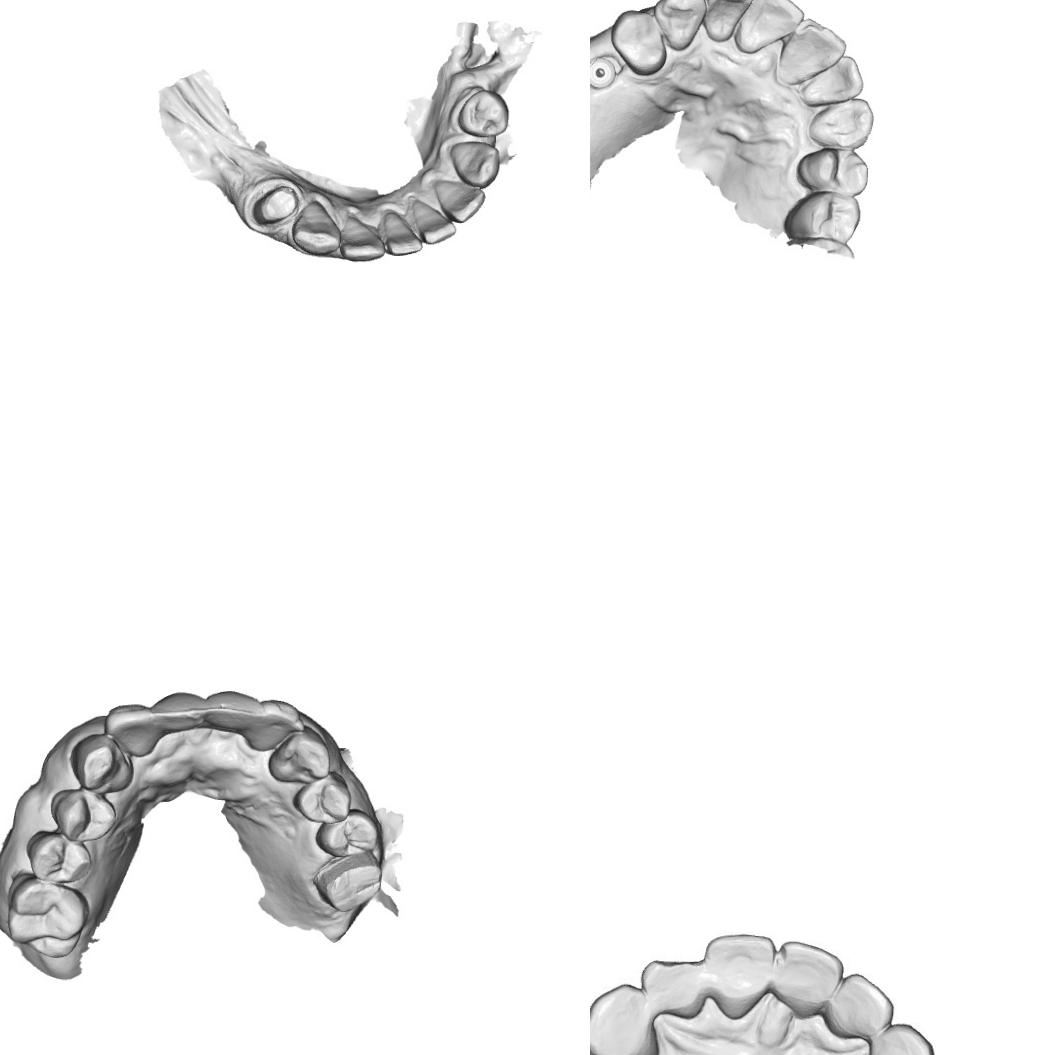canine: (590, 982, 665, 1055), (69, 730, 136, 796), (806, 88, 877, 150), (266, 728, 331, 785), (290, 198, 343, 258), (649, 0, 708, 51), (448, 139, 501, 188), (859, 1023, 939, 1055)
crown: (310, 850, 384, 914), (244, 180, 302, 234)
implant: (590, 52, 617, 91)
incisor: (706, 929, 782, 1011), (774, 937, 843, 1018), (636, 952, 708, 1026), (829, 969, 894, 1039), (781, 15, 847, 80), (800, 52, 866, 108), (738, 0, 803, 54), (104, 701, 158, 758), (250, 696, 300, 754), (407, 192, 458, 246), (430, 176, 486, 224), (337, 212, 387, 263), (153, 690, 207, 737), (206, 688, 259, 734), (700, 0, 754, 44), (380, 210, 424, 256)
molar: (4, 872, 91, 958)
premolar: (780, 189, 862, 244), (791, 144, 874, 198), (48, 786, 119, 844), (608, 8, 668, 76), (23, 829, 94, 884), (314, 807, 380, 858), (290, 773, 352, 826), (455, 87, 511, 138)
